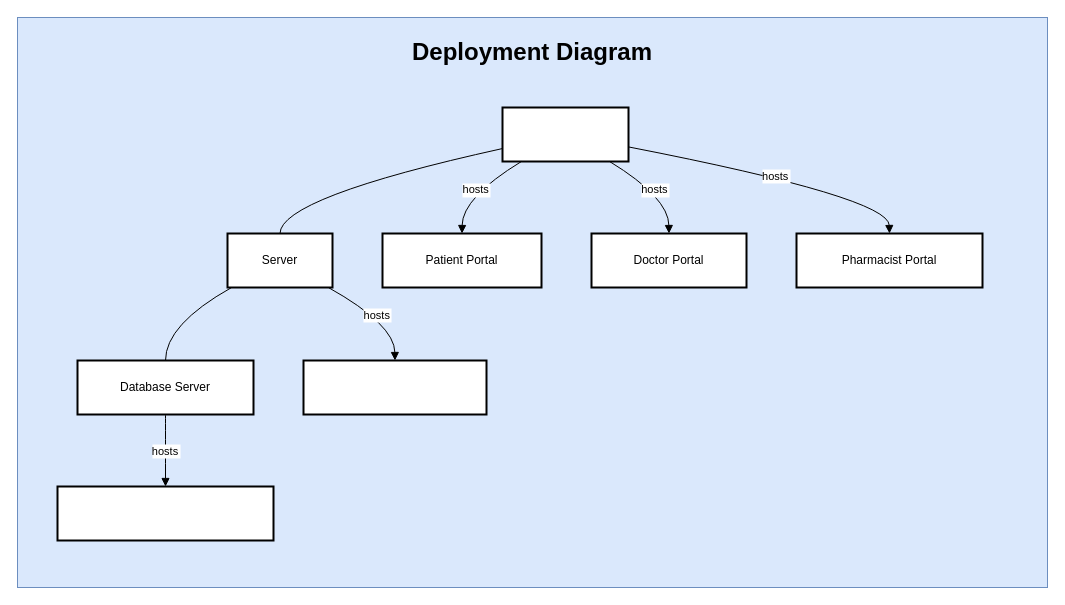
This 1065x605 diagram has some shape labels left out. Each missing label, with the centre of its shape:
Backend Services: point (394, 387)
Client PC: point (565, 134)
Prescription Database: point (165, 513)
